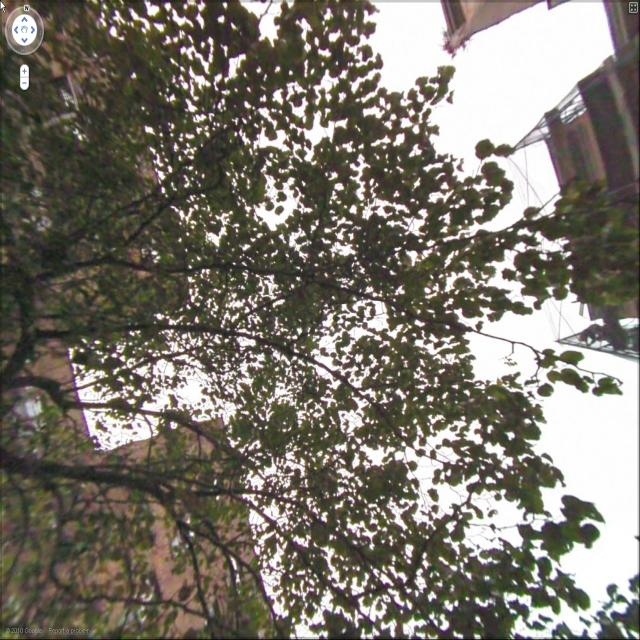b_2: (0, 4, 214, 307), (2, 422, 293, 638), (514, 48, 640, 355)
